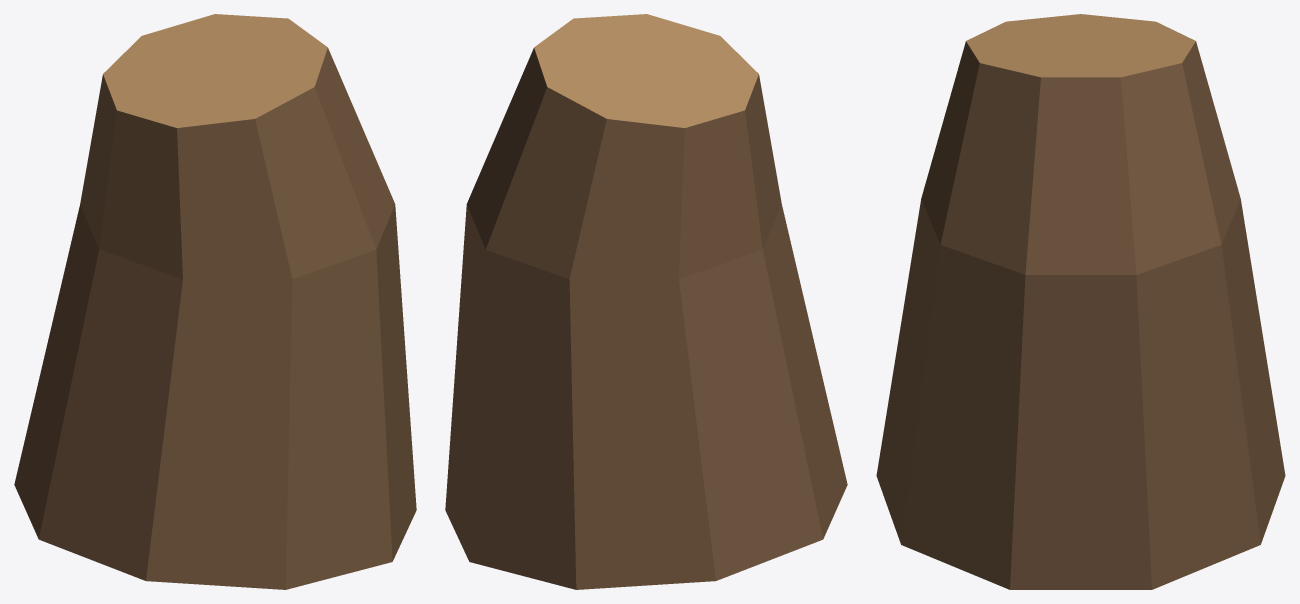
File: stump.glb
The picture shows the model from 3 angles, left to right: view 1: azimuth 30°, elevation 25°; view 2: azimuth 150°, elevation 25°; view 3: azimuth 270°, elevation 25°; orthographic projection.
Parts seen in each view (by area): view 1: Rotten stump; view 2: Rotten stump; view 3: Rotten stump.
Boxes of the visible parts, <box> form: Rotten stump: <box>14,14,416,589</box>; Rotten stump: <box>445,14,847,589</box>; Rotten stump: <box>876,14,1285,589</box>.
Bounding box in the file's own units: 0.6187 × 0.8097 × 0.6303.
